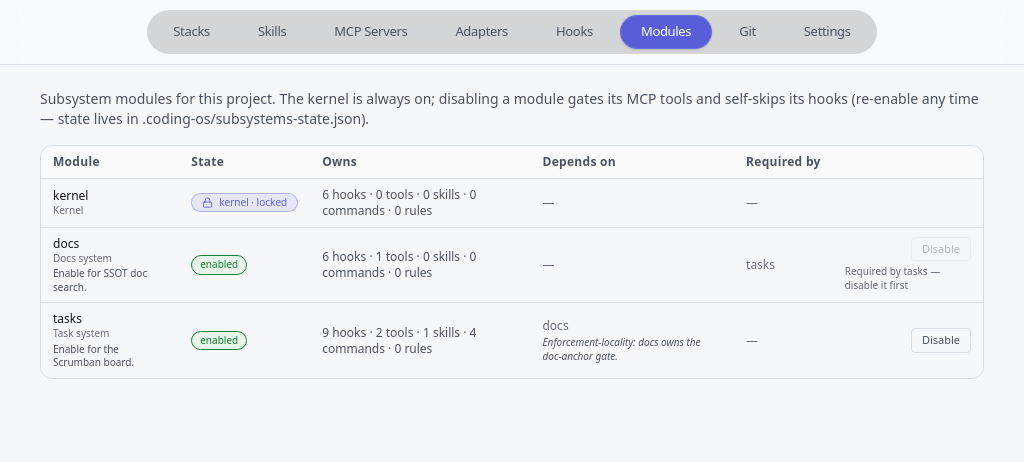
ModulesTab (TASK-354) › shows the cascade regenerated notes after a successful toggle
Click the button with test id "module-toggle-tasks". click: click(941, 341)
box: top-left (911, 328), bottom-right (971, 353)
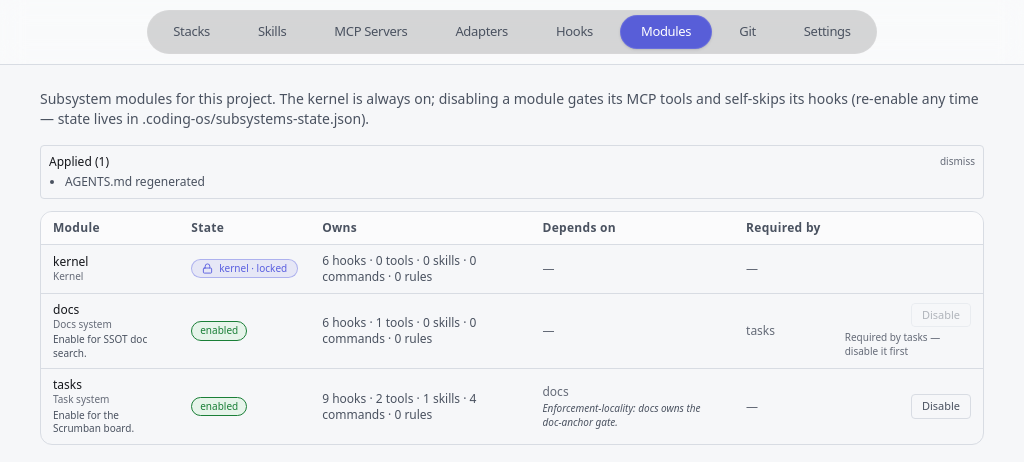
Check: the list item "AGENTS.md regenerated" is shown, box top-left (65, 172), bottom-right (205, 190)
